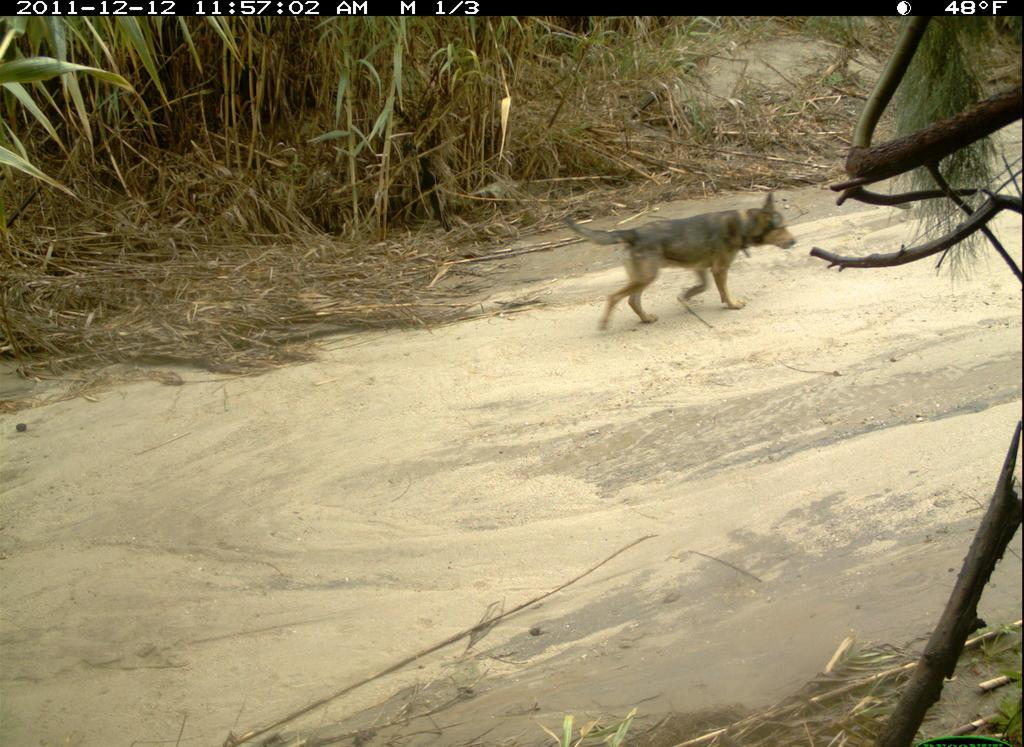dog: (533, 190, 825, 359)
